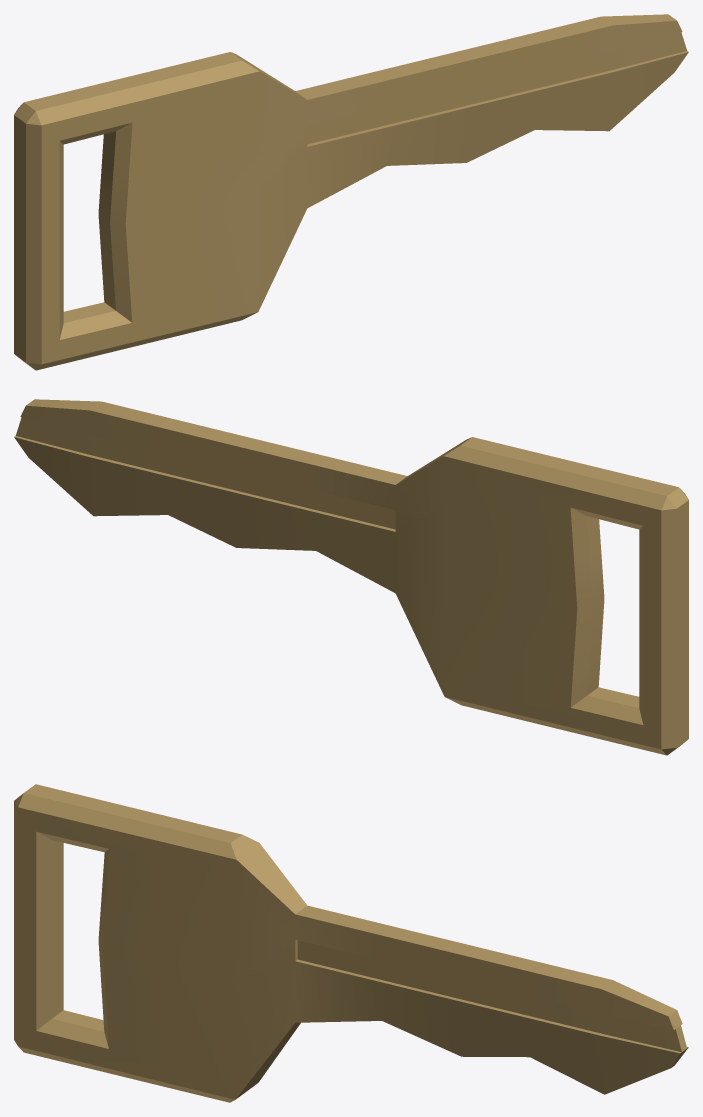
File: sm_GoldenKey_LP.fbx
3 renders of one model, top to bottom at view 1: azimuth 30°, elevation 25°; view 2: azimuth 150°, elevation 25°; view 3: azimuth 330°, elevation 25°, orthographic.
Visible parts, largest first — view 1: pCube1; view 2: pCube1; view 3: pCube1.
Boxes of the visible parts, left/top/right/bottom form: pCube1: left=14, top=14, right=688, bottom=370; pCube1: left=14, top=399, right=688, bottom=755; pCube1: left=14, top=784, right=688, bottom=1102.
Bounding box in the file's own units: 17.06 × 6.37 × 1.04.
